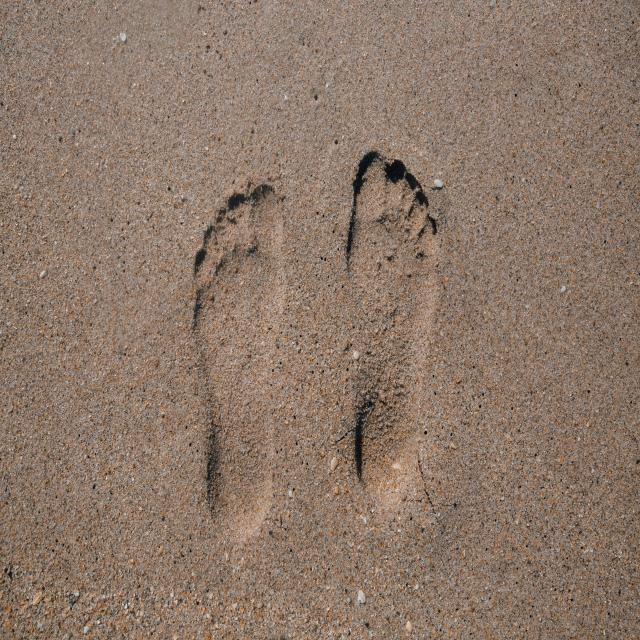human_foot_print: (184, 145, 447, 532)
